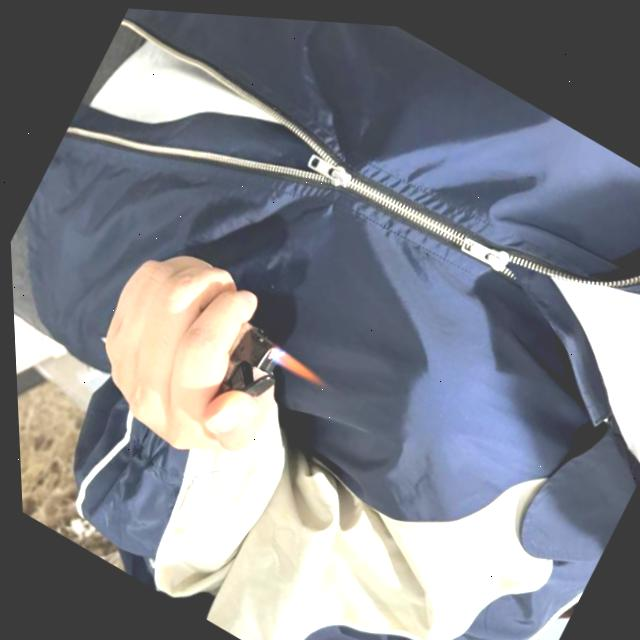Fire: (263, 340, 326, 388)
